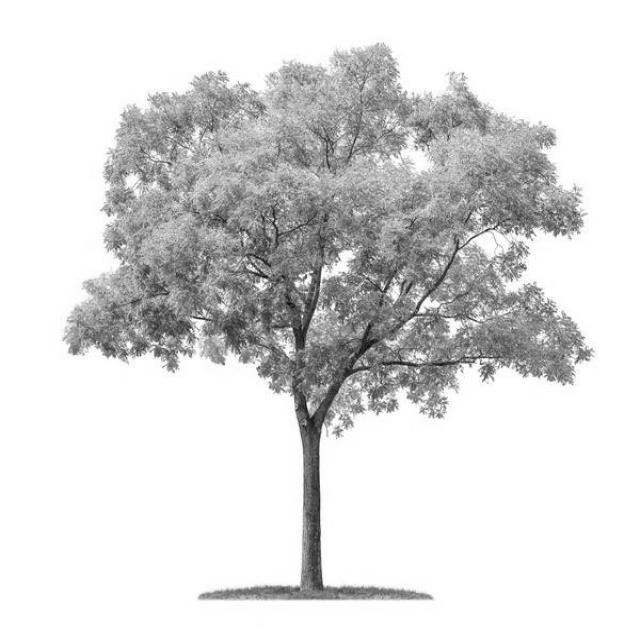Tree: (65, 45, 591, 591)
